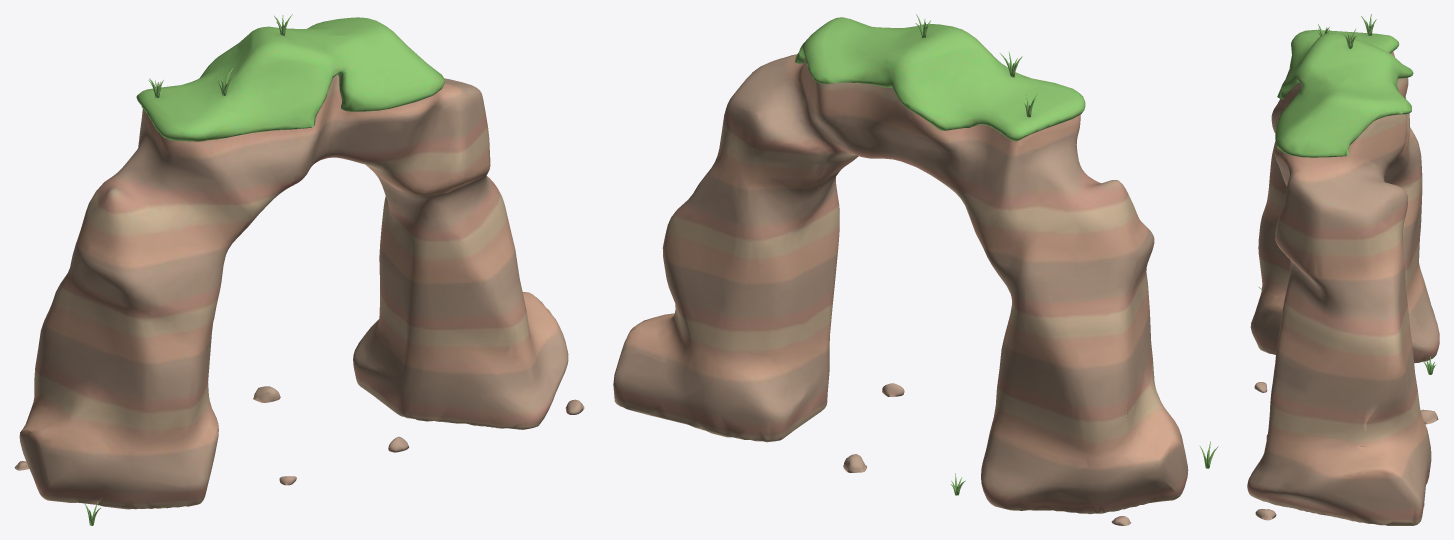
File: arco_roca.glb
3 views of the same model, side by side, from view 1: azimuth 30°, elevation 25°; view 2: azimuth 150°, elevation 25°; view 3: azimuth 270°, elevation 25° (orthographic). The views are drawn at different scales.
Parts seen in each view (by area): view 1: rock-arch_body; view 2: rock-arch_body; view 3: rock-arch_body.
Part boxes in pixels (x1,y1,x2,y2): rock-arch_body: (14,14,584,525); rock-arch_body: (613,14,1218,525); rock-arch_body: (1247,14,1439,525).
Bounding box in the file's own units: 6.05 × 4.69 × 2.16.
Materials: 1 (1 with a texture image).
